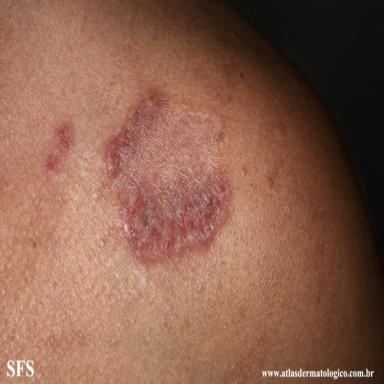Hailey-Hailey-Disease: (81, 86, 233, 269), (42, 119, 77, 181)
